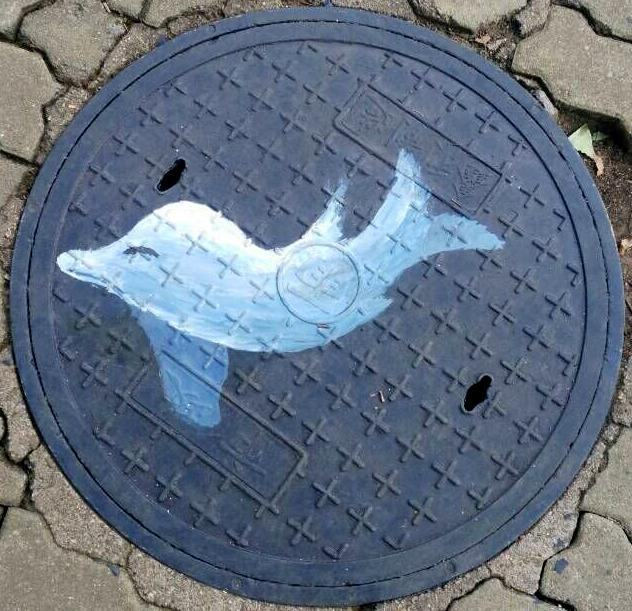wellcover: (2, 2, 632, 611)
